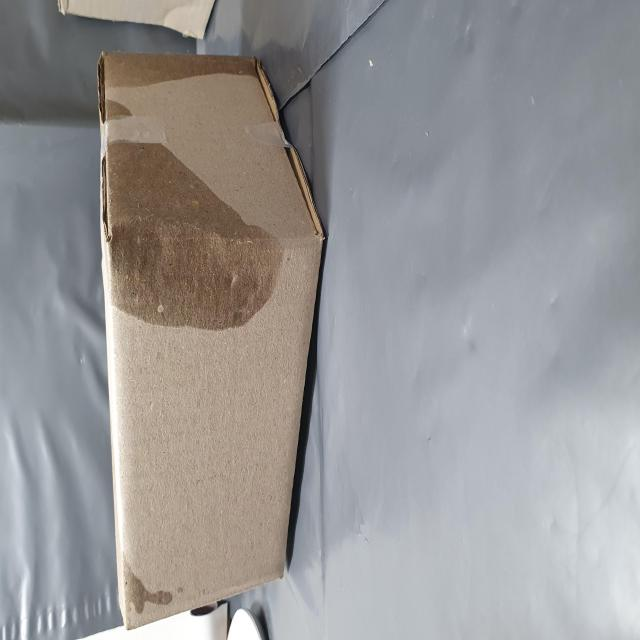wet: (170, 166, 340, 528)
